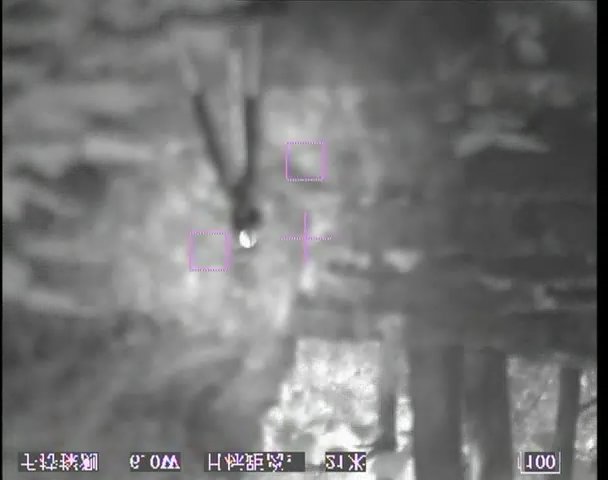my: (235, 227, 257, 249)
